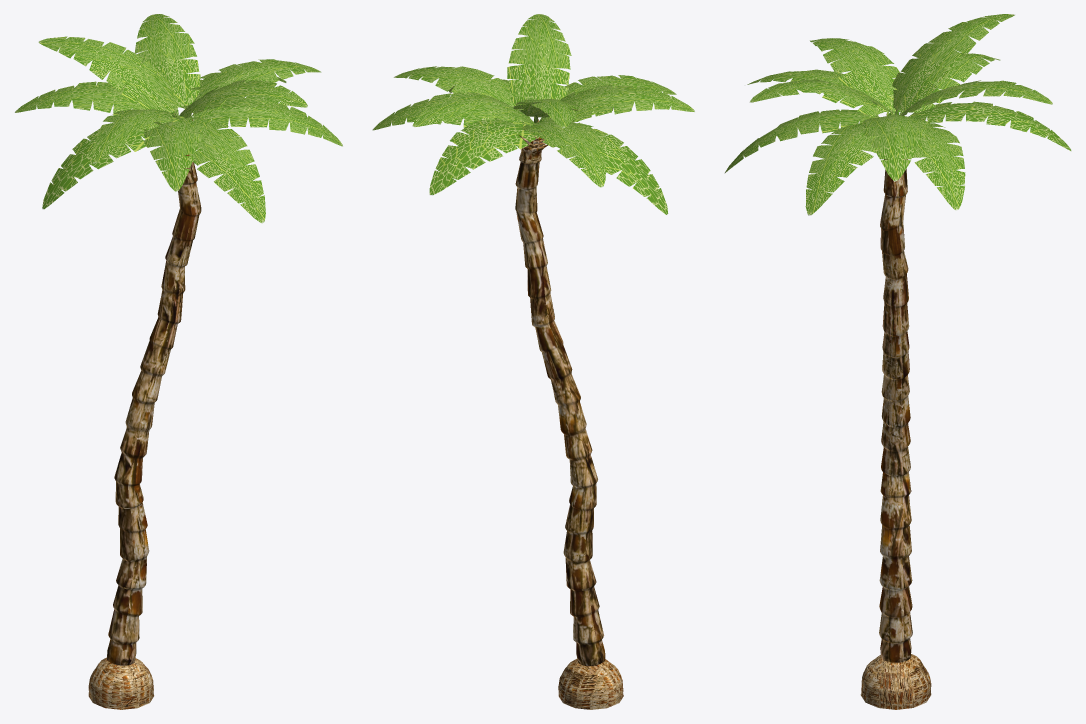
File: palmera.obj
The picture shows the model from 3 angles, left to right: view 1: azimuth 30°, elevation 25°; view 2: azimuth 150°, elevation 25°; view 3: azimuth 270°, elevation 25°; orthographic projection. The views are drawn at different scales.
Parts seen in each view (by area): view 1: palmtree:trunkpalm_move1, palmtree:palm_leavespolySurface8, palmtree:palm_leavespolySurface13, palmtree:palm_leavespolySurface6, palmtree:palm_leavespolySurface12, palmtree:basepalm_move, palmtree:palm_leavespolySurface15, palmtree:palm_leavespolySurface9, palmtree:palm_leavespolySurface14, palmtree:palm_leavespolySurface10, palmtree:polySurface4palm_leaves, palmtree:palm_leavespolySurface11; view 2: palmtree:trunkpalm_move1, palmtree:palm_leavespolySurface14, palmtree:palm_leavespolySurface7, palmtree:palm_leavespolySurface11, palmtree:basepalm_move, palmtree:palm_leavespolySurface9, palmtree:palm_leavespolySurface6, palmtree:palm_leavespolySurface10, palmtree:polySurface4palm_leaves, palmtree:palm_leavespolySurface8, palmtree:palm_leavespolySurface5, palmtree:palm_leavespolySurface12; view 3: palmtree:trunkpalm_move1, palmtree:palm_leavespolySurface8, palmtree:palm_leavespolySurface15, palmtree:palm_leavespolySurface11, palmtree:basepalm_move, palmtree:palm_leavespolySurface5, palmtree:polySurface4palm_leaves, palmtree:palm_leavespolySurface7, palmtree:palm_leavespolySurface13, palmtree:palm_leavespolySurface6, palmtree:palm_leavespolySurface14, palmtree:palm_leavespolySurface12 (+1 smaller).
Boxes of the visible parts, box(x1,y1,x2,y2) form: palmtree:trunkpalm_move1: box(107, 119, 201, 665); palmtree:palm_leavespolySurface8: box(38, 36, 177, 116); palmtree:palm_leavespolySurface13: box(188, 120, 265, 223); palmtree:palm_leavespolySurface6: box(134, 14, 200, 115); palmtree:palm_leavespolySurface12: box(143, 117, 207, 192); palmtree:basepalm_move: box(88, 657, 154, 709); palmtree:palm_leavespolySurface15: box(189, 98, 343, 146); palmtree:palm_leavespolySurface9: box(14, 81, 171, 121); palmtree:palm_leavespolySurface14: box(179, 79, 307, 118); palmtree:palm_leavespolySurface10: box(42, 121, 158, 209); palmtree:polySurface4palm_leaves: box(183, 59, 321, 116); palmtree:palm_leavespolySurface11: box(92, 109, 186, 163); palmtree:trunkpalm_move1: box(515, 119, 605, 666); palmtree:palm_leavespolySurface14: box(507, 14, 571, 121); palmtree:palm_leavespolySurface7: box(429, 118, 538, 195); palmtree:palm_leavespolySurface11: box(538, 84, 695, 122); palmtree:basepalm_move: box(558, 658, 623, 709); palmtree:palm_leavespolySurface9: box(521, 120, 606, 187); palmtree:palm_leavespolySurface6: box(412, 92, 534, 127); palmtree:palm_leavespolySurface10: box(538, 123, 668, 215); palmtree:polySurface4palm_leaves: box(393, 66, 521, 118); palmtree:palm_leavespolySurface8: box(513, 98, 579, 128); palmtree:palm_leavespolySurface5: box(372, 93, 524, 130); palmtree:palm_leavespolySurface12: box(542, 75, 676, 121); palmtree:trunkpalm_move1: box(879, 146, 912, 662); palmtree:palm_leavespolySurface8: box(892, 14, 1015, 114); palmtree:palm_leavespolySurface15: box(805, 122, 883, 215); palmtree:palm_leavespolySurface11: box(810, 38, 899, 114); palmtree:basepalm_move: box(860, 654, 931, 709); palmtree:palm_leavespolySurface5: box(908, 123, 965, 210); palmtree:polySurface4palm_leaves: box(862, 115, 930, 181); palmtree:palm_leavespolySurface7: box(909, 101, 1071, 151); palmtree:palm_leavespolySurface13: box(724, 109, 879, 173); palmtree:palm_leavespolySurface6: box(900, 80, 1052, 115); palmtree:palm_leavespolySurface14: box(749, 79, 894, 115); palmtree:palm_leavespolySurface12: box(747, 69, 889, 116).
Size of the model in its own units: 2.31 by 4.96 by 2.33.
2 materials, 2 textured.
